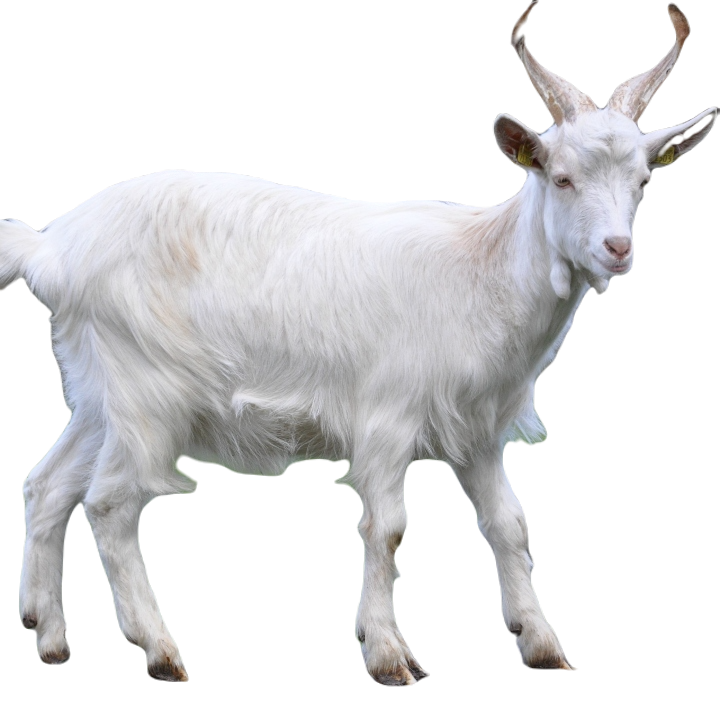Goat: (0, 0, 720, 691)
